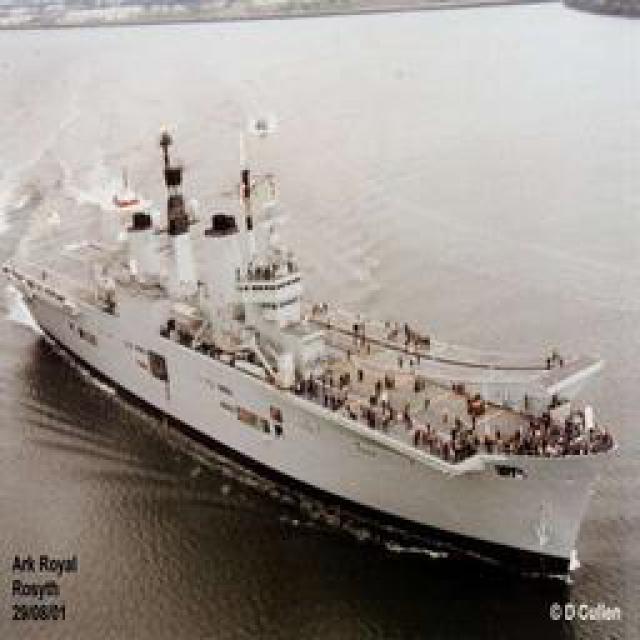Ship: (17, 72, 625, 610)
